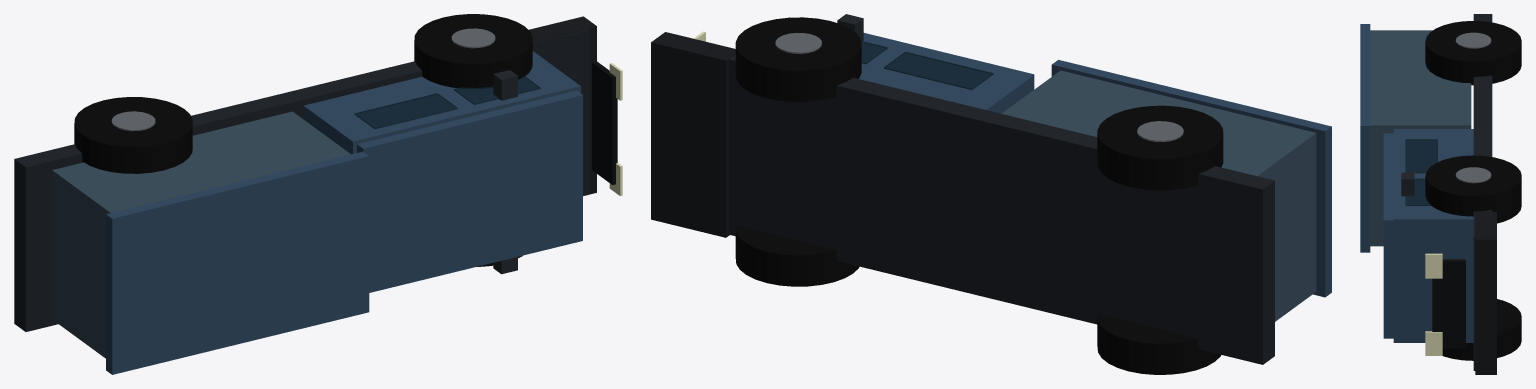
File: caminhao_4_rodas.obj
3 views of the same model, side by side, from view 1: azimuth 30°, elevation 25°; view 2: azimuth 150°, elevation 25°; view 3: azimuth 270°, elevation 25° (orthographic). The views are drawn at different scales.
Visible parts, largest first — view 1: cargo, cab, chassis, wheel_rear_right, wheel_front_right, front_details, windows; view 2: chassis, cargo, front_details, wheel_rear_right, wheel_front_right, cab, wheel_front_left, wheel_rear_left, windows; view 3: cab, cargo, front_details, wheel_rear_right, wheel_front_right, chassis, wheel_front_left, windows, wheel_rear_left.
Part boxes in pixels (<box>): cargo: <box>52,111,369,374</box>; cab: <box>303,51,582,292</box>; chassis: <box>14,29,589,331</box>; wheel_rear_right: <box>74,97,192,173</box>; wheel_front_right: <box>414,14,532,88</box>; front_details: <box>493,16,622,274</box>; windows: <box>354,76,540,129</box>; chassis: <box>729,55,1274,364</box>; cargo: <box>1001,60,1331,321</box>; front_details: <box>651,14,863,237</box>; wheel_rear_right: <box>1097,105,1223,190</box>; wheel_front_right: <box>735,17,861,101</box>; cab: <box>789,17,1034,113</box>; wheel_front_left: <box>735,225,859,286</box>; wheel_rear_left: <box>1097,313,1220,374</box>; windows: <box>861,41,993,89</box>; cab: <box>1383,129,1473,342</box>; cargo: <box>1360,24,1471,252</box>; front_details: <box>1401,172,1496,374</box>; wheel_rear_right: <box>1425,21,1521,85</box>; wheel_front_right: <box>1425,155,1521,217</box>; chassis: <box>1473,14,1492,370</box>; wheel_front_left: <box>1442,299,1521,360</box>; windows: <box>1405,139,1437,205</box>; wheel_rear_left: <box>1497,201,1521,223</box>.
Size of the model in its own units: 6.9 by 2.37 by 2.08.
